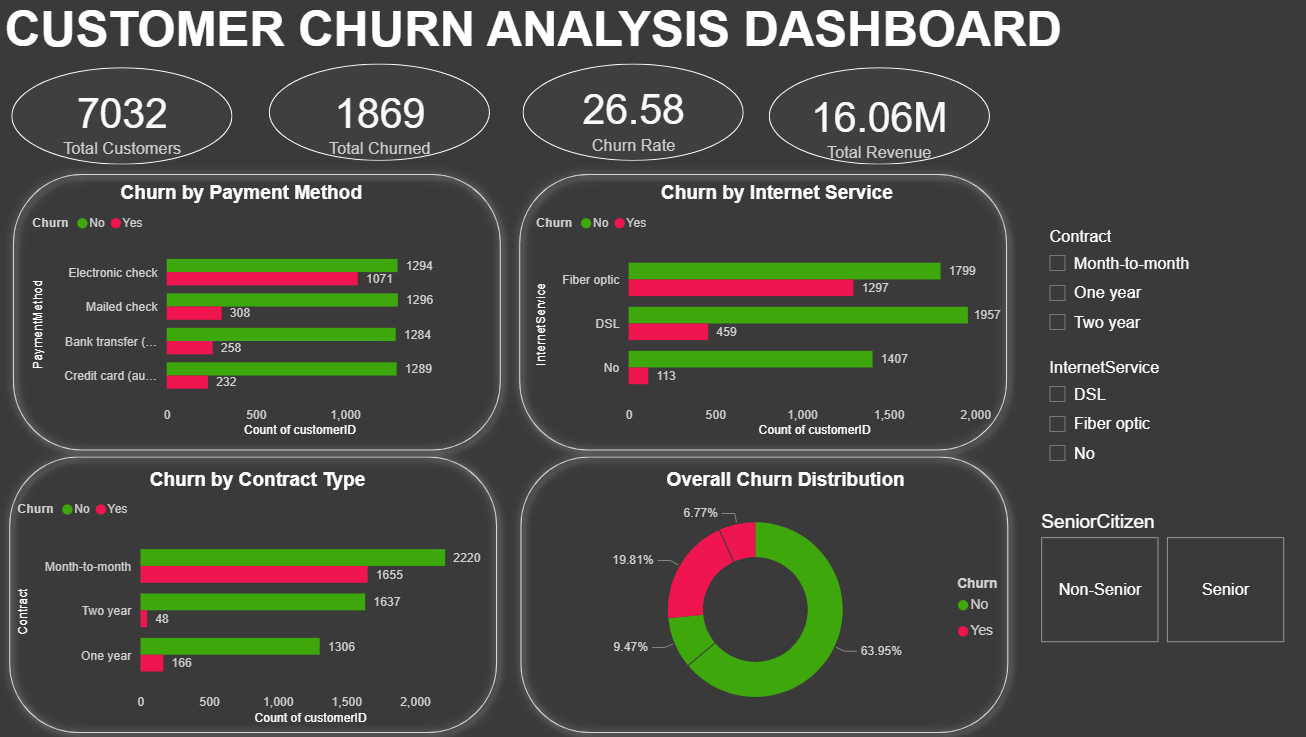

Layout of this report page (visuals, bound fields, positions):
{"tool":"powerbi","page":{"name":"Page 1","canvas":[1280,731],"ordinal":0},"visuals":[{"type":"card","fields":{"Values":["CountNonNull(Telco_Customer_Cleaned.customerID)"]},"box":[0,69.8,240.1,105.3],"z":0},{"type":"card","fields":{"Values":["Telco_Customer_Cleaned.Total Churned"]},"box":[252.3,69.8,240.1,105.3],"z":1000},{"type":"card","fields":{"Values":["Telco_Customer_Cleaned.Churn Rate"]},"box":[501,62.5,240.1,112.7],"z":2000},{"type":"card","fields":{"Values":["Telco_Customer_Cleaned.Total Revenue"]},"box":[749.6,69.8,224.2,112.7],"z":3000},{"type":"clusteredBarChart","title":"Churn by Contract Type","fields":{"Y":["CountNonNull(Telco_Customer_Cleaned.customerID)"],"Category":["Telco_Customer_Cleaned.Contract"],"Series":["Telco_Customer_Cleaned.Churn"]},"box":[12.2,463,480.1,256],"z":4000},{"type":"clusteredBarChart","title":"Churn by Payment Method","fields":{"Y":["CountNonNull(Telco_Customer_Cleaned.customerID)"],"Series":["Telco_Customer_Cleaned.Churn"],"Category":["Telco_Customer_Cleaned.PaymentMethod"]},"box":[26.9,182.5,418.9,254.8],"z":5000},{"type":"clusteredBarChart","title":"Churn by Internet Service","fields":{"Y":["CountNonNull(Telco_Customer_Cleaned.customerID)"],"Series":["Telco_Customer_Cleaned.Churn"],"Category":["Telco_Customer_Cleaned.InternetService"]},"box":[520.6,182.5,481.4,254.8],"z":6000},{"type":"donutChart","title":"Overall Churn Distribution","fields":{"Category":["Telco_Customer_Cleaned.Churn"],"Y":["CountNonNull(Telco_Customer_Cleaned.customerID)"],"Series":["Telco_Customer_Cleaned.SeniorCitizen"]},"box":[537.7,463,464.2,256],"z":7000},{"type":"textbox","box":[0,0,1280,80],"z":8000},{"type":"slicer","fields":{"Values":["Telco_Customer_Cleaned.Contract"]},"box":[1015.4,221.7,238.9,128.6],"z":9000},{"type":"slicer","fields":{"Values":["Telco_Customer_Cleaned.InternetService"]},"box":[1015.4,350.3,238.9,126.2],"z":10000},{"type":"advancedSlicerVisual","fields":{"Values":["Telco_Customer_Cleaned.SeniorCitizen"]},"box":[1015.4,504.6,248.6,134.7],"z":11000},{"type":"shape","box":[3.7,165.4,496.1,289.1],"z":12000},{"type":"shape","box":[499.7,165.4,496.1,289.1],"z":13000},{"type":"shape","box":[493.6,442.2,496.1,289.1],"z":14000},{"type":"shape","box":[0,442.2,496.1,289.1],"z":15000},{"type":"shape","box":[11,69.8,216.8,95.5],"z":16000},{"type":"shape","box":[263.3,66.1,216.8,95.5],"z":17000},{"type":"shape","box":[512,66.1,216.8,95.5],"z":18000},{"type":"shape","box":[753.3,69.8,216.8,95.5],"z":19000}]}

Visuals, with their boxes in screenshot pixels (x1, y1, x2, y2), scaled from the page's 1280x731 canvas onto the 1306x737 screenshot:
card - CountNonNull(Telco_Customer_Cleaned.customerID): [x1=0, y1=70, x2=245, y2=177]
card - Telco_Customer_Cleaned.Total Churned: [x1=257, y1=70, x2=502, y2=177]
card - Telco_Customer_Cleaned.Churn Rate: [x1=511, y1=63, x2=756, y2=177]
card - Telco_Customer_Cleaned.Total Revenue: [x1=765, y1=70, x2=994, y2=184]
"Churn by Contract Type" clusteredBarChart: [x1=12, y1=467, x2=502, y2=725]
"Churn by Payment Method" clusteredBarChart: [x1=27, y1=184, x2=455, y2=441]
"Churn by Internet Service" clusteredBarChart: [x1=531, y1=184, x2=1022, y2=441]
"Overall Churn Distribution" donutChart: [x1=549, y1=467, x2=1022, y2=725]
textbox: [x1=0, y1=0, x2=1305, y2=81]
slicer - Telco_Customer_Cleaned.Contract: [x1=1036, y1=224, x2=1280, y2=353]
slicer - Telco_Customer_Cleaned.InternetService: [x1=1036, y1=353, x2=1280, y2=480]
advancedSlicerVisual - Telco_Customer_Cleaned.SeniorCitizen: [x1=1036, y1=509, x2=1290, y2=645]
shape: [x1=4, y1=167, x2=510, y2=458]
shape: [x1=510, y1=167, x2=1016, y2=458]
shape: [x1=504, y1=446, x2=1010, y2=736]
shape: [x1=0, y1=446, x2=506, y2=736]
shape: [x1=11, y1=70, x2=232, y2=167]
shape: [x1=269, y1=67, x2=490, y2=163]
shape: [x1=522, y1=67, x2=744, y2=163]
shape: [x1=769, y1=70, x2=990, y2=167]
